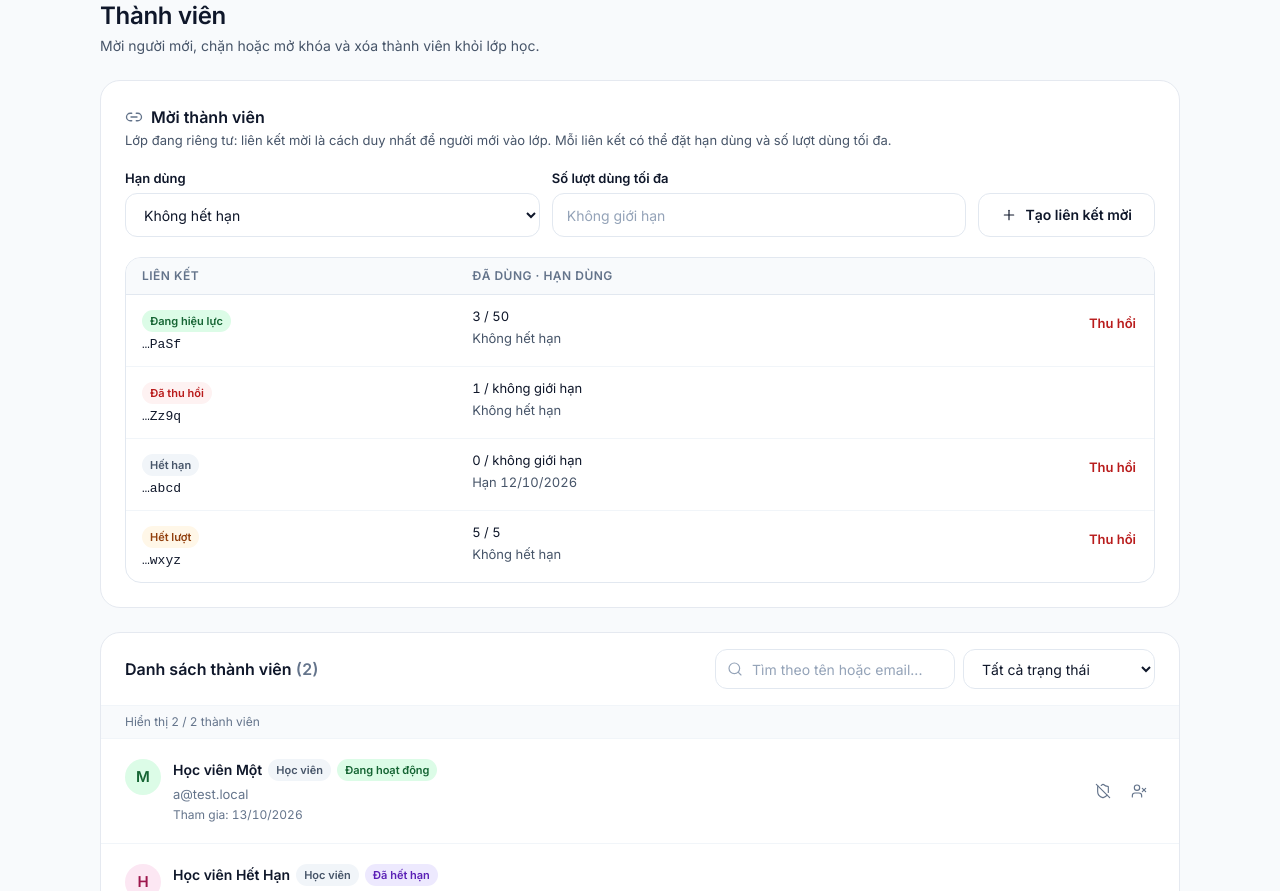
it: StudioMembers - create an invite › with no expiry and no limit the body is empty (never expires, unlimited)
Expected: the table is shown, [126,258,1154,582]
What coordinates should you click on to do the following:
click the button "Tạo liên kết mời"
I would click on:
 (1067, 215)
Its box is [978,193,1155,237].
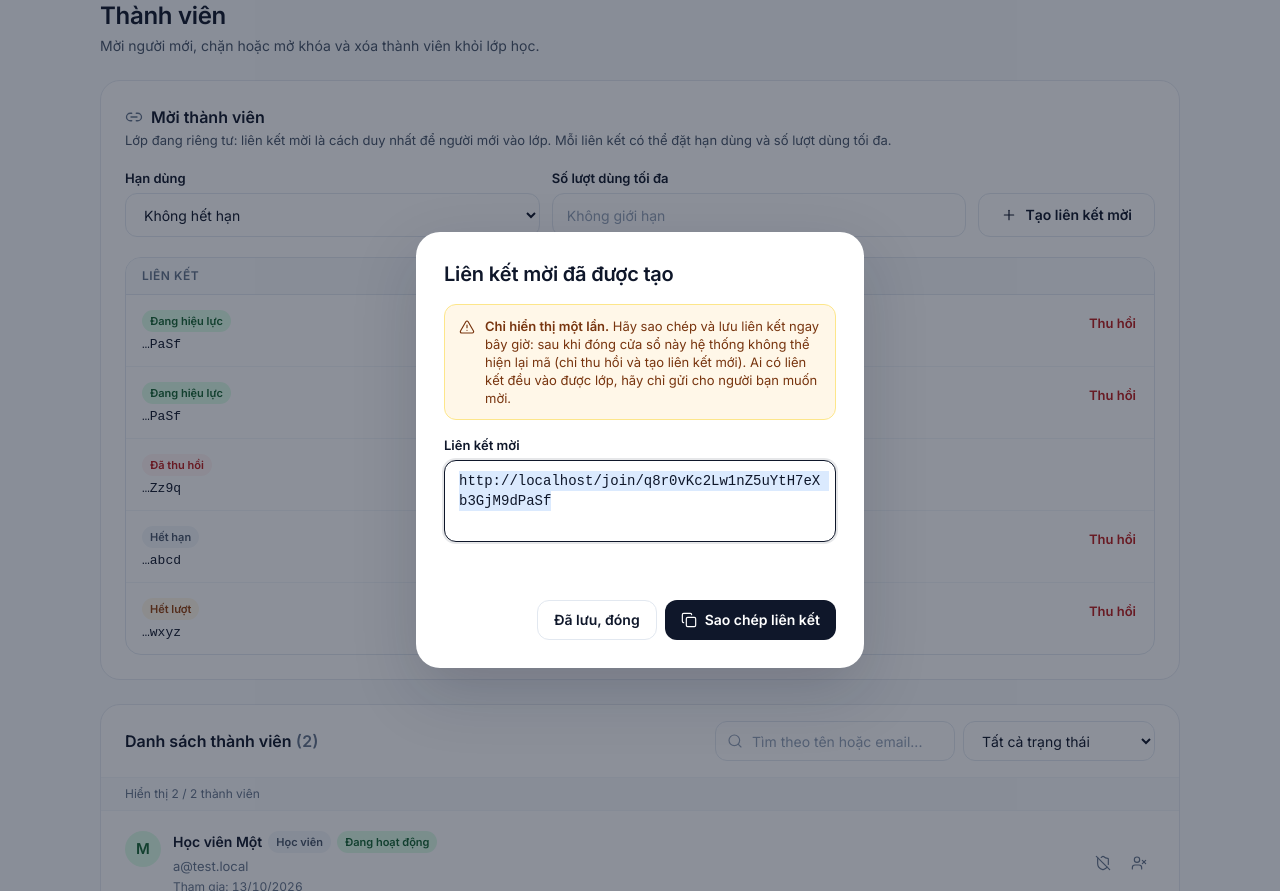
Result: the dialog "Liên kết mời đã được tạo" is shown at [416,232,864,668]
